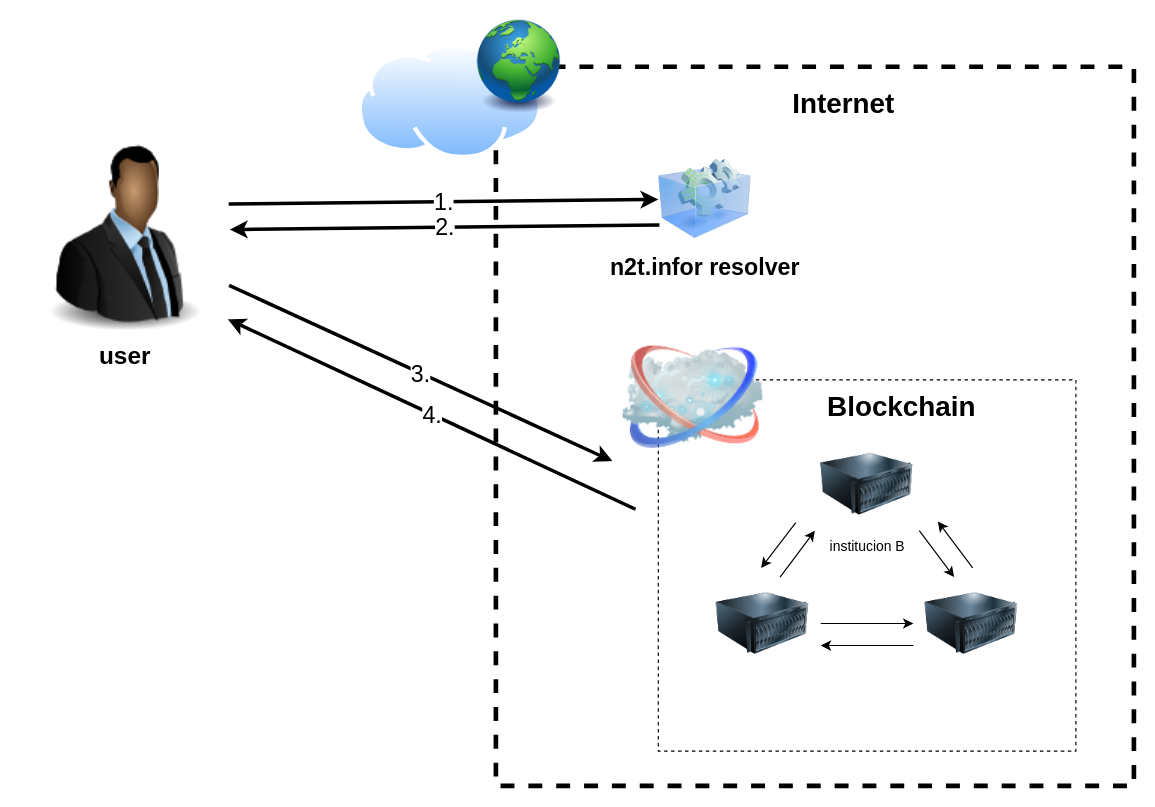
The diagram is 1155 pixels wide and 807 high, and some of its shapes have lost their labels. The shapes that lost their labels are listed below. From the top down, each one's centre as x and y in pixels, then its label:
At [762,623]: "instituicion A".
At [971,623]: "institucion C".
